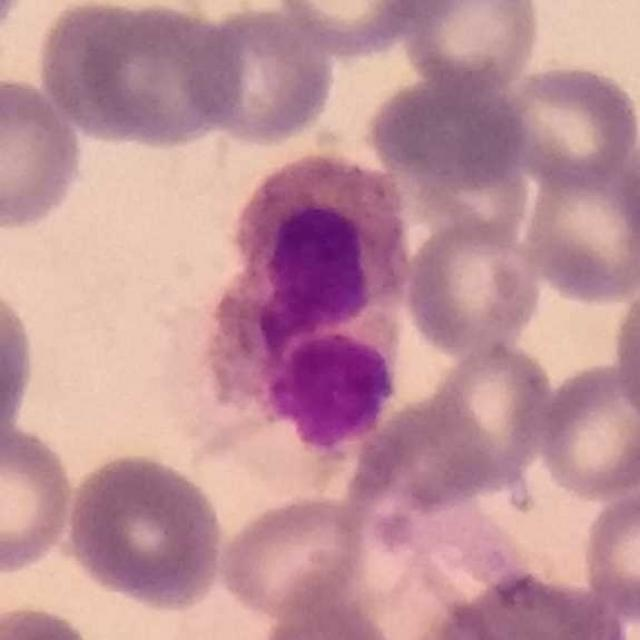Eosinophil: (206, 147, 414, 450)
RBC: (35, 0, 250, 150), (60, 448, 229, 612), (180, 0, 340, 150), (362, 69, 531, 193), (214, 491, 370, 624), (400, 215, 544, 358), (424, 339, 557, 492), (516, 153, 640, 307), (500, 59, 640, 191), (534, 357, 640, 503), (394, 0, 545, 95), (0, 72, 88, 235), (430, 567, 626, 640), (0, 417, 79, 578), (261, 0, 442, 58), (253, 583, 413, 639), (579, 481, 640, 622), (0, 274, 40, 455), (609, 270, 640, 431), (0, 600, 102, 640)
